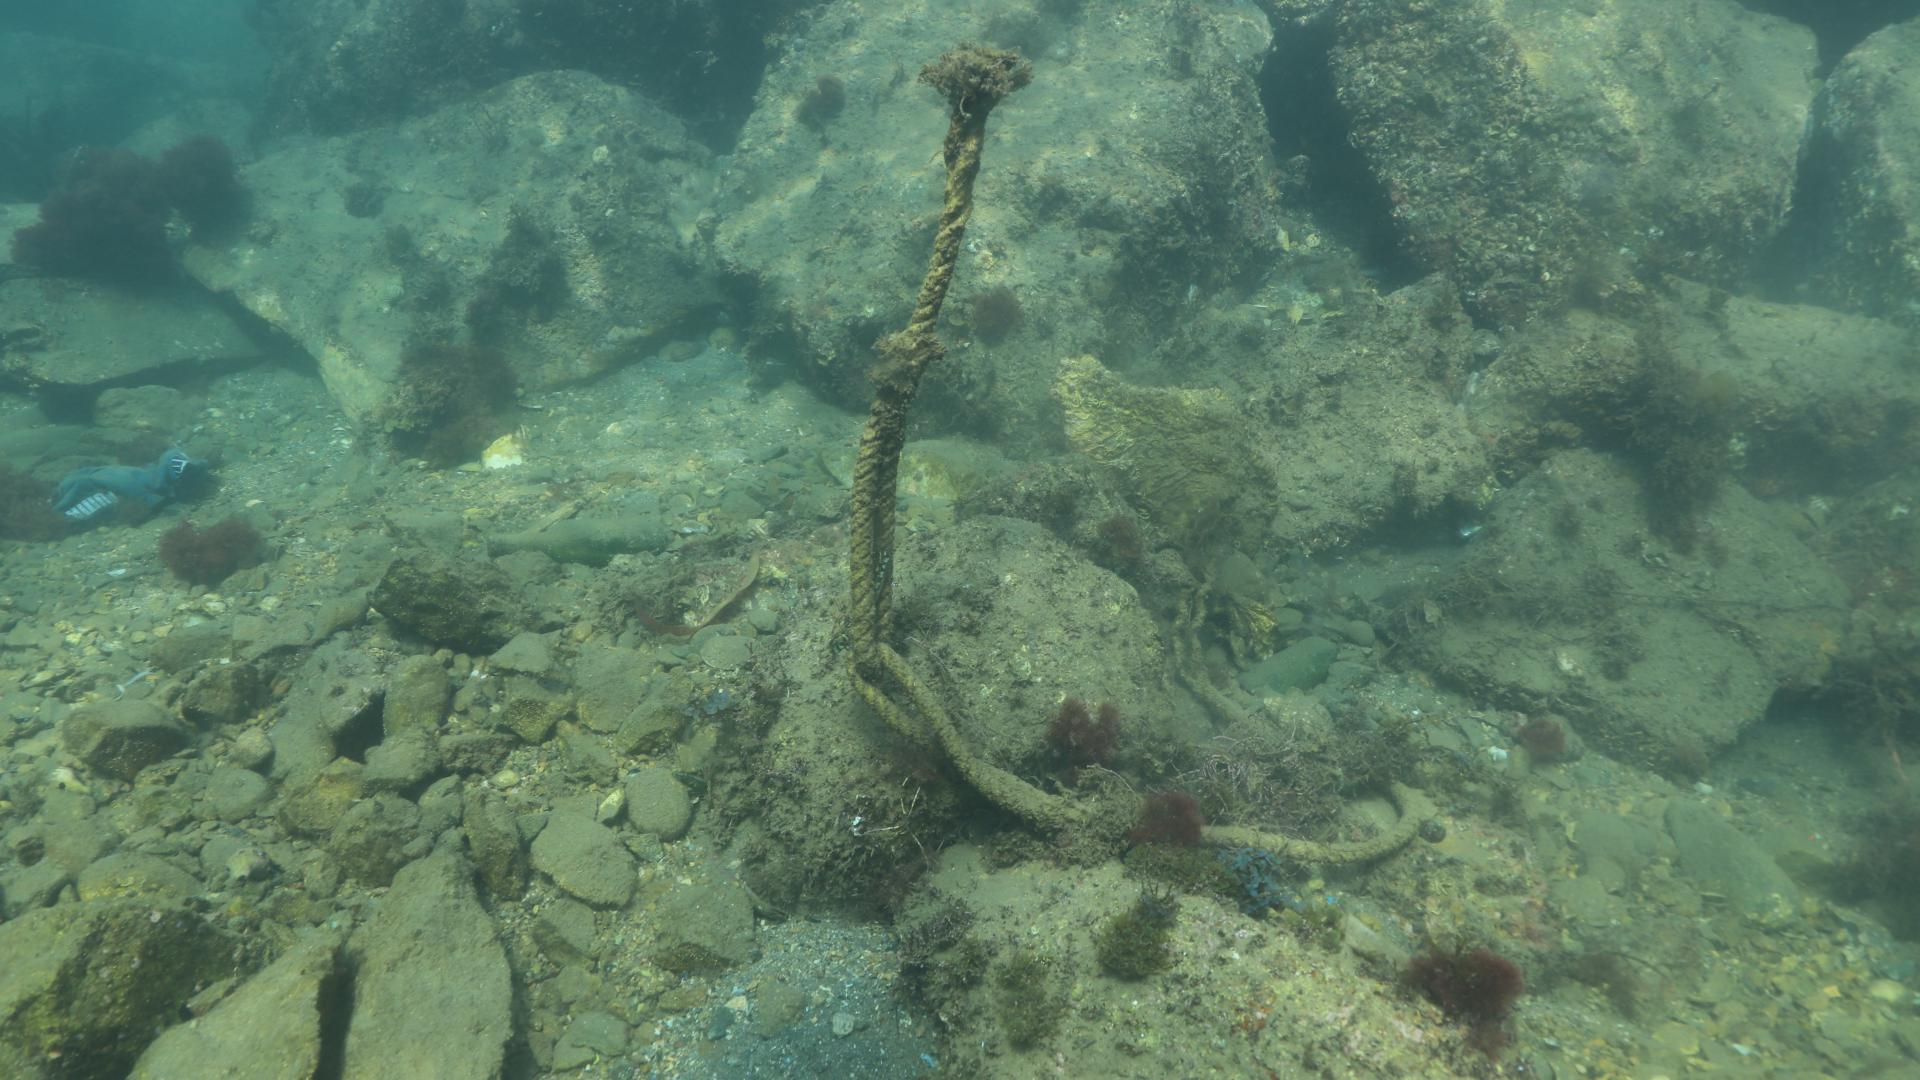bundle of ropes: (847, 119, 1422, 866)
